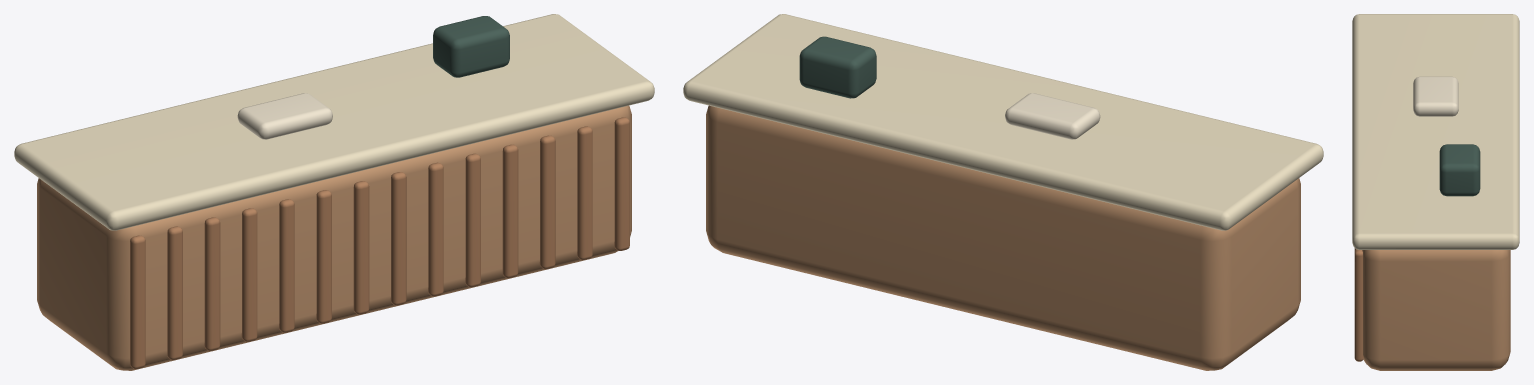
File: reception.glb
3 renders of one model, left to right at view 1: azimuth 30°, elevation 25°; view 2: azimuth 150°, elevation 25°; view 3: azimuth 270°, elevation 25°, orthographic. The views are drawn at different scales.
Parts seen in each view (by area): view 1: Body_cedar, Body_cream, Body_wood, Body_charcoal, Body_linen; view 2: Body_cedar, Body_cream, Body_charcoal, Body_linen; view 3: Body_cream, Body_cedar, Body_charcoal, Body_linen, Body_wood.
Part boxes in pixels (box(x1,y1,x2,y2)): Body_cedar: box(37, 105, 631, 370); Body_cream: box(14, 14, 654, 230); Body_wood: box(130, 117, 629, 369); Body_charcoal: box(433, 16, 509, 77); Body_linen: box(237, 93, 332, 139); Body_cedar: box(706, 105, 1300, 370); Body_cream: box(683, 14, 1323, 230); Body_charcoal: box(799, 36, 876, 98); Body_linen: box(1005, 93, 1100, 139); Body_cream: box(1352, 14, 1519, 249); Body_cedar: box(1362, 250, 1510, 370); Body_charcoal: box(1439, 144, 1480, 196); Body_linen: box(1413, 76, 1458, 116); Body_wood: box(1354, 248, 1363, 361).
Bounding box in the file's own units: 4.45 × 1.64 × 1.4.
